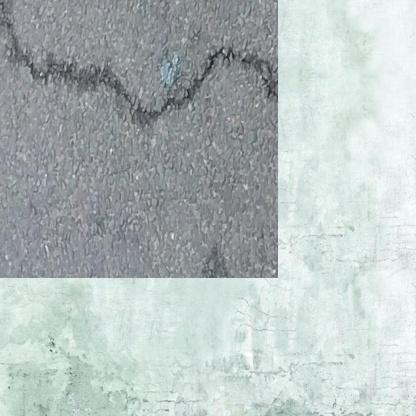Cracks: (0, 0, 257, 111)
